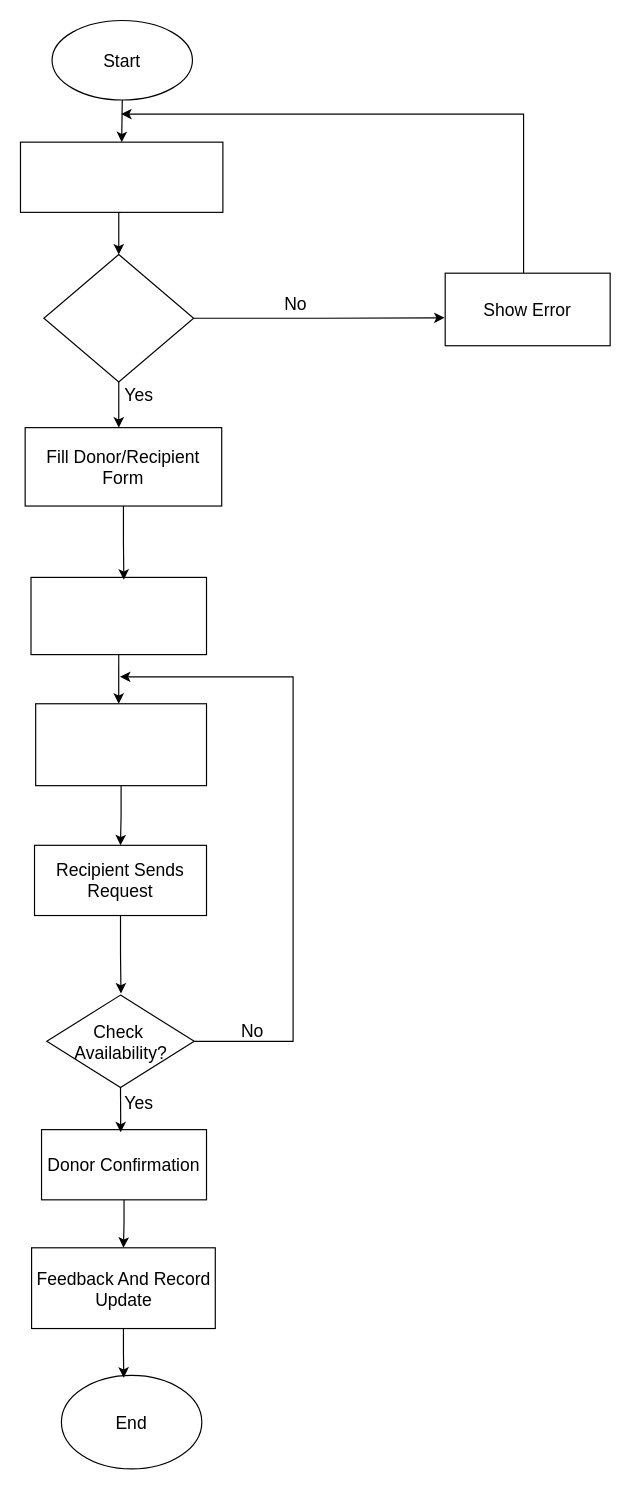
Image size: 631x1489. Some labels were removed from this diagram. Here are the shapes that lost their labels. From the top down, the centre of each, then its label:
pixel 121 176: User Registration/Login
pixel 118 317: Are Credential Valid?
pixel 118 615: Search For Match
pixel 121 744: Show Matched Donor List
